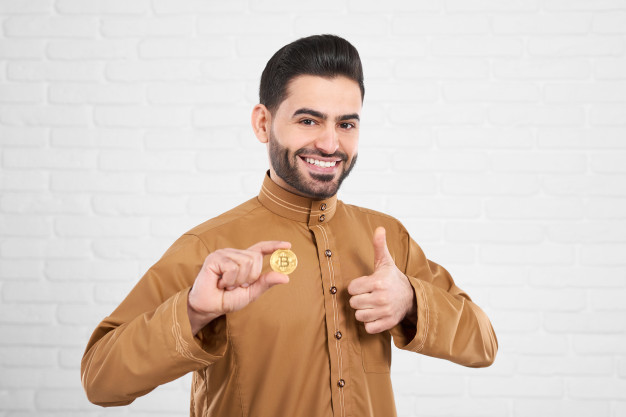thumbsup: (347, 225, 399, 334)
